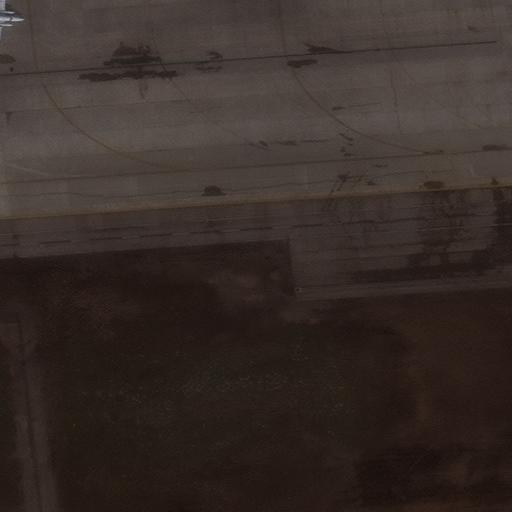Small Civil Transport: (0, 0, 25, 39)
